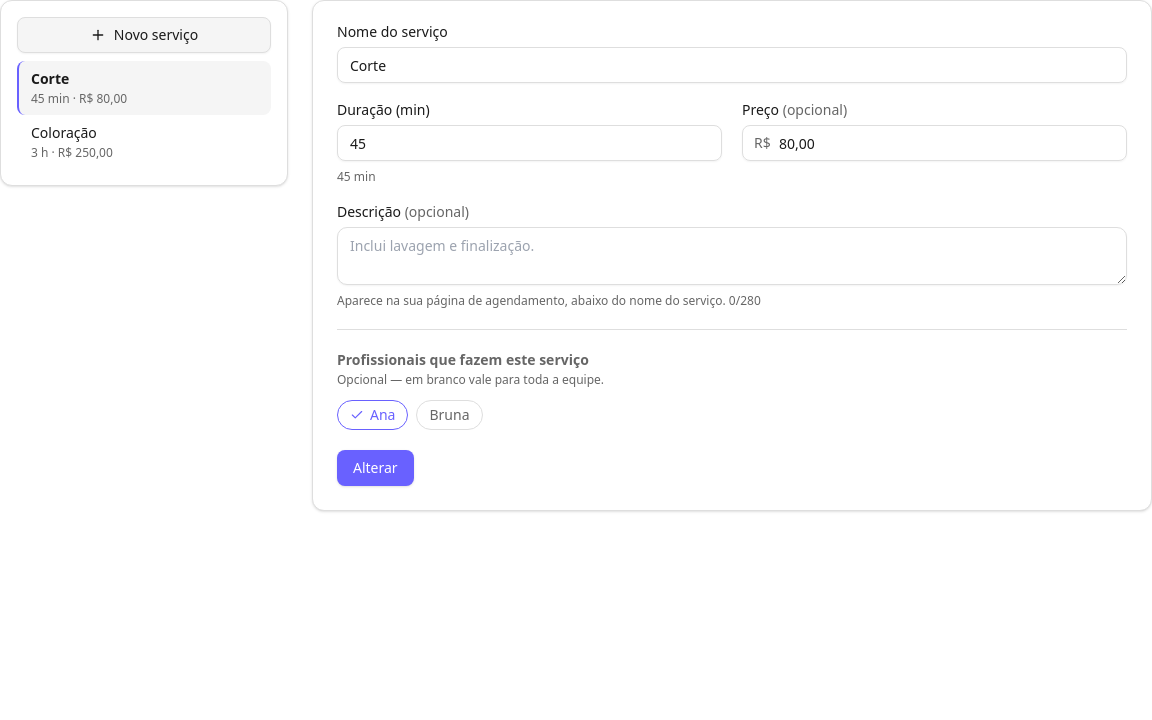
Test: ConfiguracoesServicos › rótulo do botão: 'Alterar' num serviço existente, 'Salvar' em novo
Check: the field labelled "Nome do serviço" holds "Corte", box [337,47,1127,83]
Check: the button "Alterar" is shown, box [337,450,414,486]
Click the button "Novo serviço" at (144,35), box [17,17,271,53]
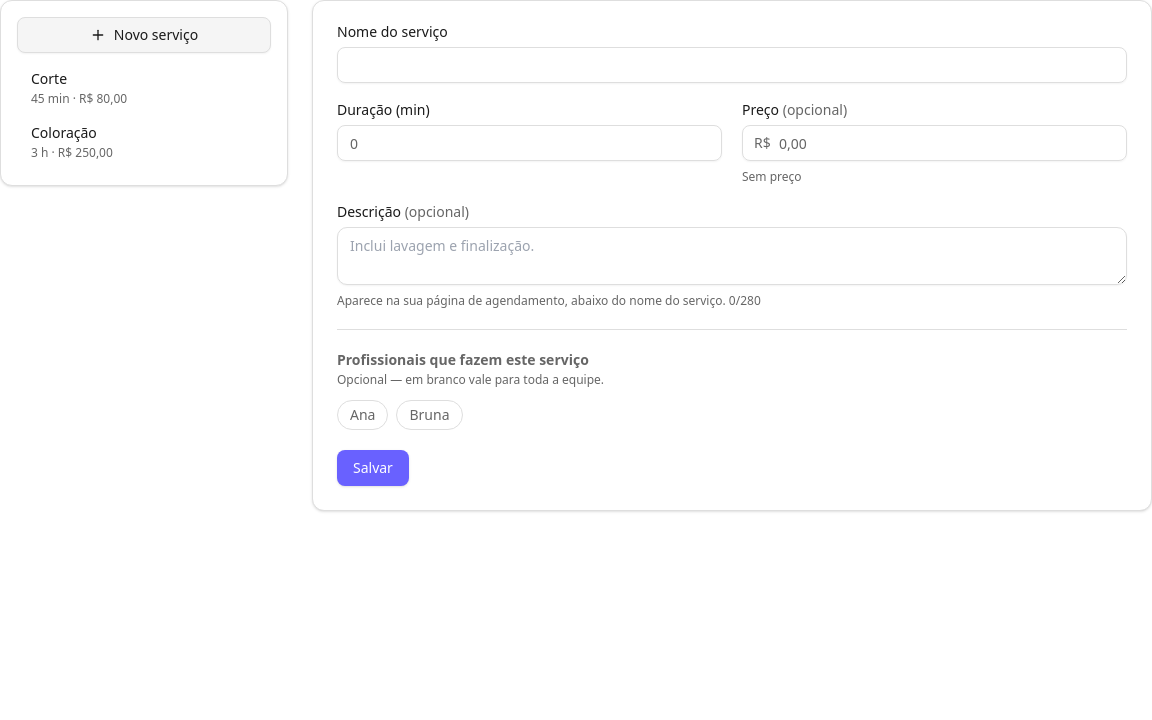
Check: the button "Salvar" is shown, box [337,450,409,486]
Check: the button "Alterar" is gone
